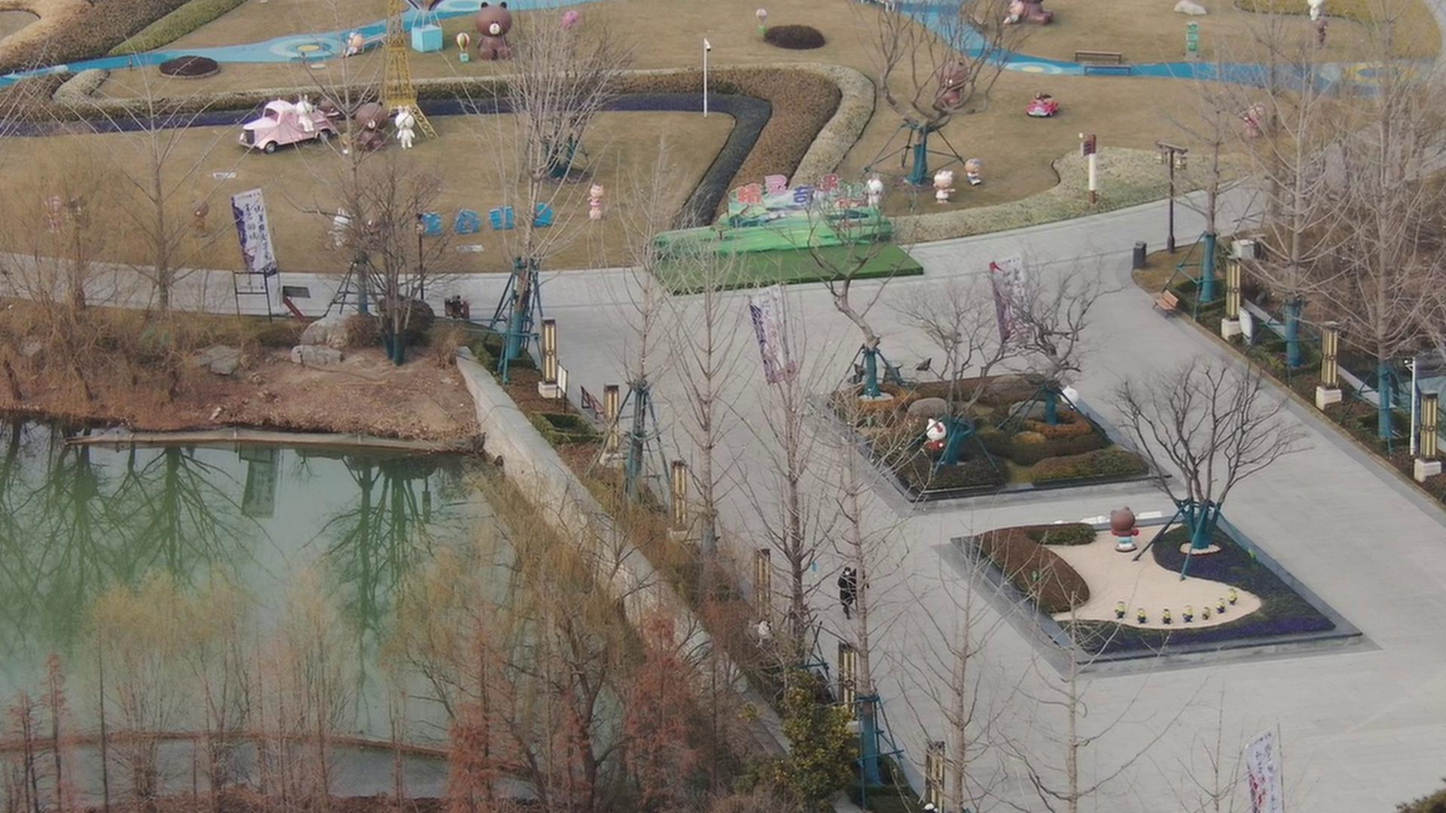human: (830, 560, 852, 622)
